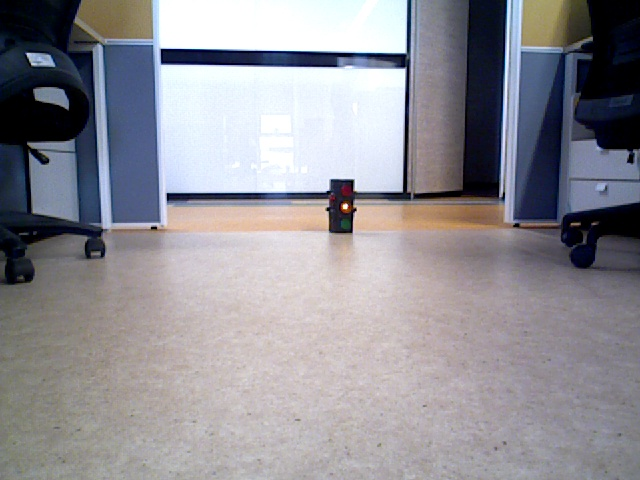yellow: (330, 180, 352, 228)
